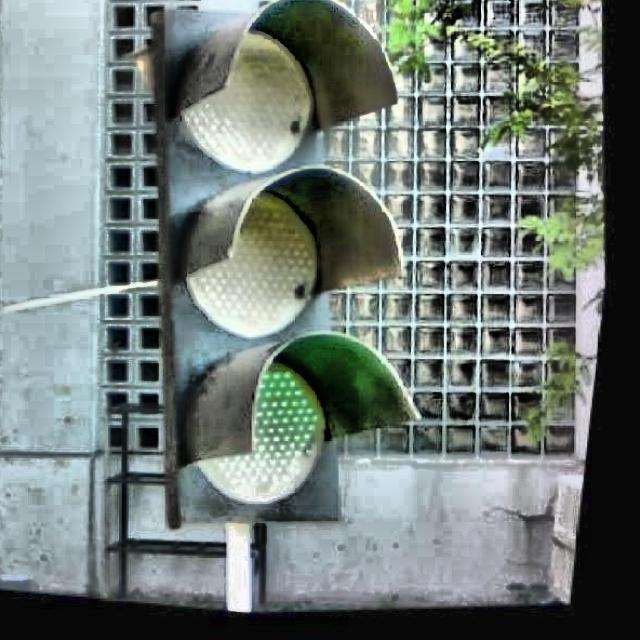green: (115, 0, 471, 552)
